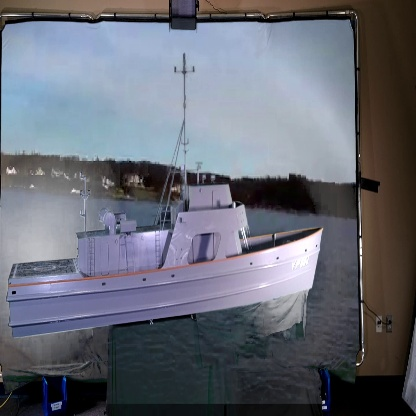YP689: (5, 52, 324, 343)
